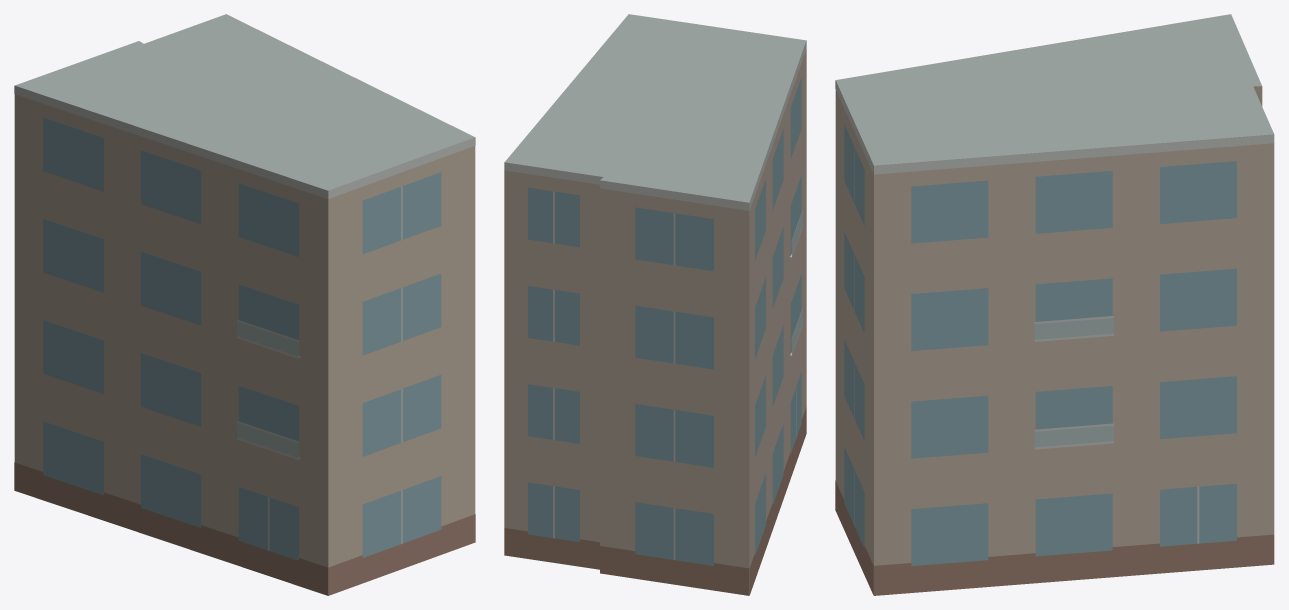
File: survey-upis-33014100.glb
3 renders of one model, left to right at view 1: azimuth 30°, elevation 25°; view 2: azimuth 150°, elevation 25°; view 3: azimuth 270°, elevation 25°, orthographic. The views are drawn at different scales.
Visible parts, largest first — view 1: survey-upis-33014100.tmp; view 2: survey-upis-33014100.tmp; view 3: survey-upis-33014100.tmp.
Boxes of the visible parts, x1,y1,x2,y2 form: survey-upis-33014100.tmp: [14, 14, 475, 595]; survey-upis-33014100.tmp: [504, 14, 806, 595]; survey-upis-33014100.tmp: [835, 14, 1274, 595].
Size of the model in its own units: 8.93 by 11.8 by 10.92.
